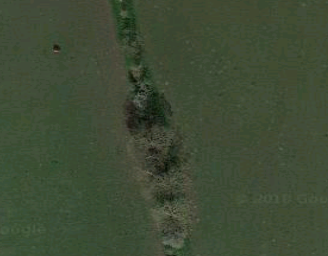tree: (121, 121, 199, 187), (145, 189, 205, 253)
